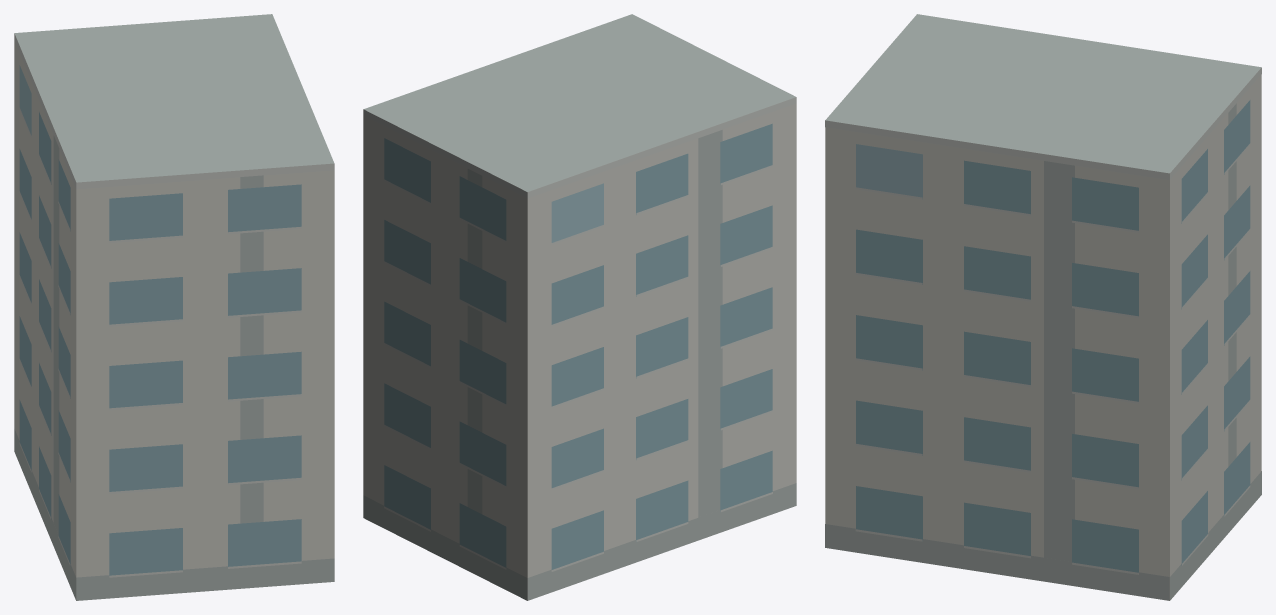
The model's file is residential-17a7ea24-a196-454b-9364-ed4083b0ef99.glb.
3 renders of one model, left to right at view 1: azimuth 30°, elevation 25°; view 2: azimuth 150°, elevation 25°; view 3: azimuth 270°, elevation 25°, orthographic. The views are drawn at different scales.
Parts seen in each view (by area): view 1: residential-17a7ea24-a196-454b-9364-ed4083b0ef99.tmp; view 2: residential-17a7ea24-a196-454b-9364-ed4083b0ef99.tmp; view 3: residential-17a7ea24-a196-454b-9364-ed4083b0ef99.tmp.
Part boxes in pixels (x1=…): residential-17a7ea24-a196-454b-9364-ed4083b0ef99.tmp: x1=14, y1=14, x2=334, y2=600; residential-17a7ea24-a196-454b-9364-ed4083b0ef99.tmp: x1=363, y1=14, x2=796, y2=600; residential-17a7ea24-a196-454b-9364-ed4083b0ef99.tmp: x1=825, y1=14, x2=1261, y2=600.
Size of the model in its own units: 12.21 by 15.25 by 14.13.
